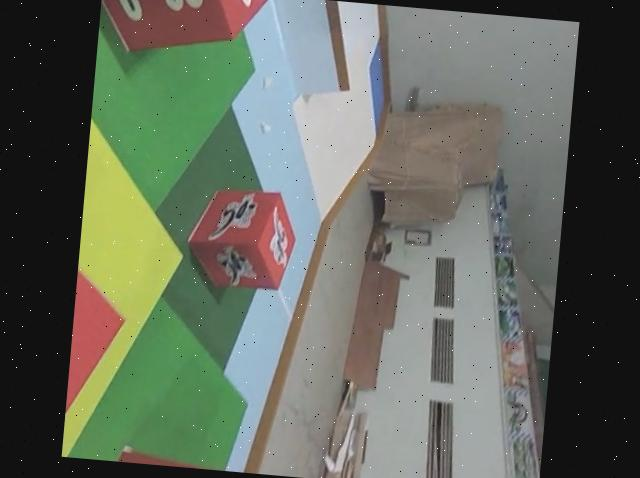R1: (183, 181, 303, 295)
R2 Fake: (96, 0, 276, 68)
